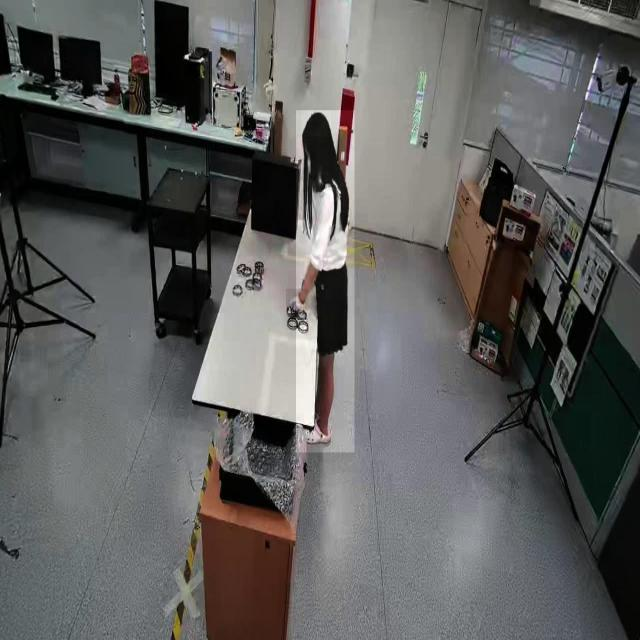hand_glove: (286, 289, 309, 312)
head_nohelmet: (301, 110, 332, 137)
person: (296, 110, 355, 453)
